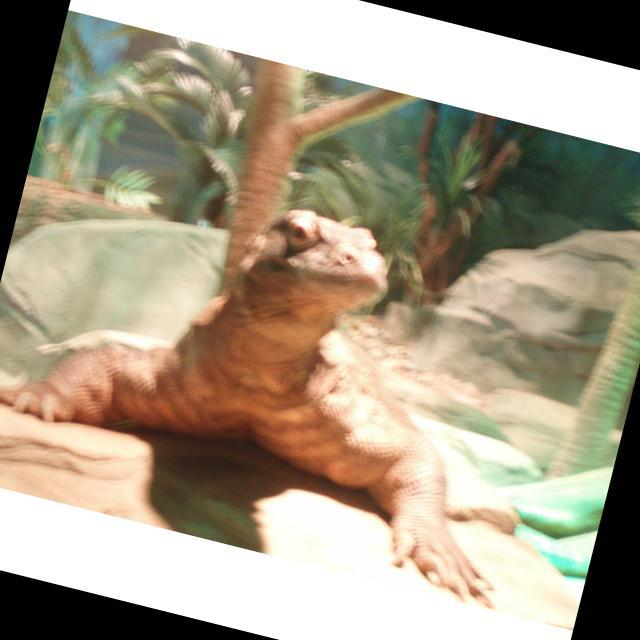KomodoDragon: (0, 141, 584, 609)
